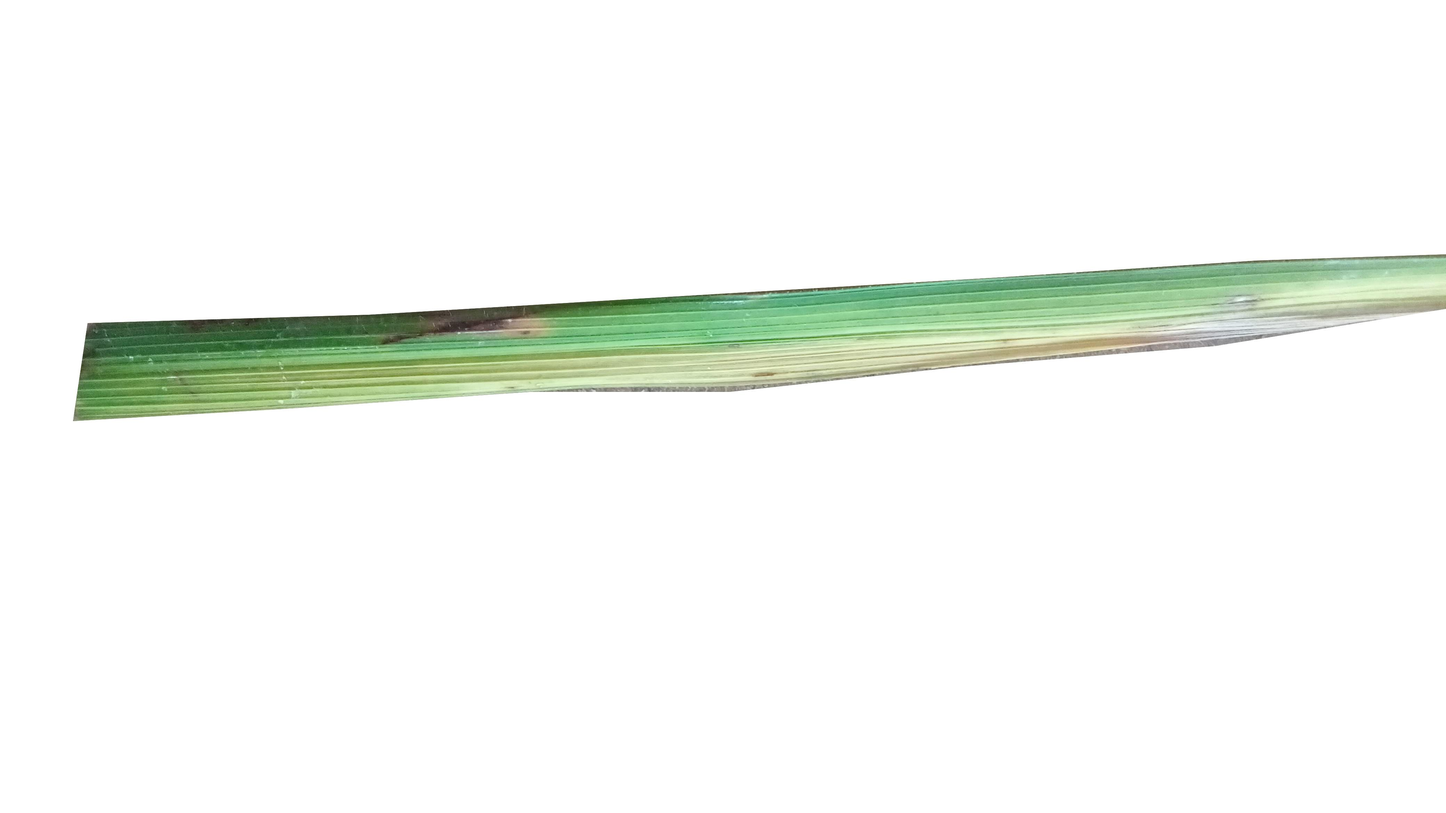Rice blast: (398, 294, 556, 373)
